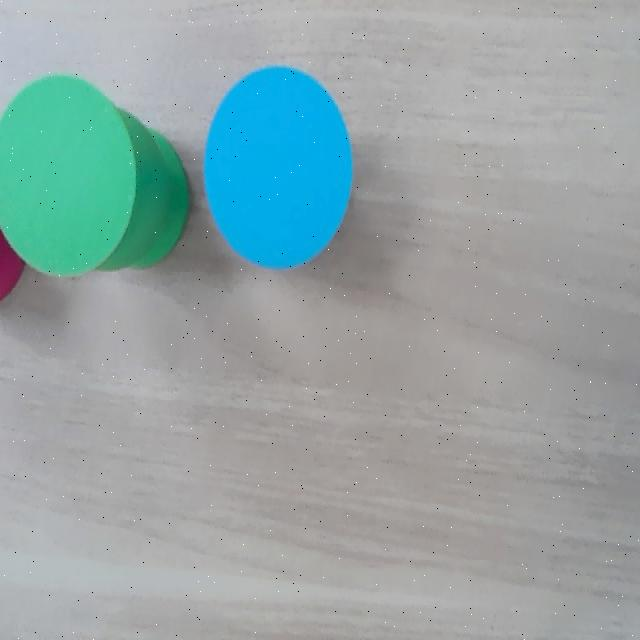b: (205, 66, 354, 270)
